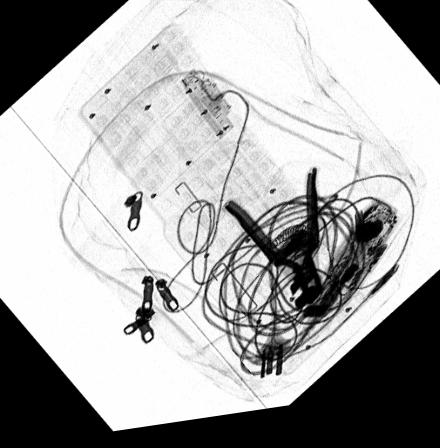Pliers: (219, 175, 325, 321)
